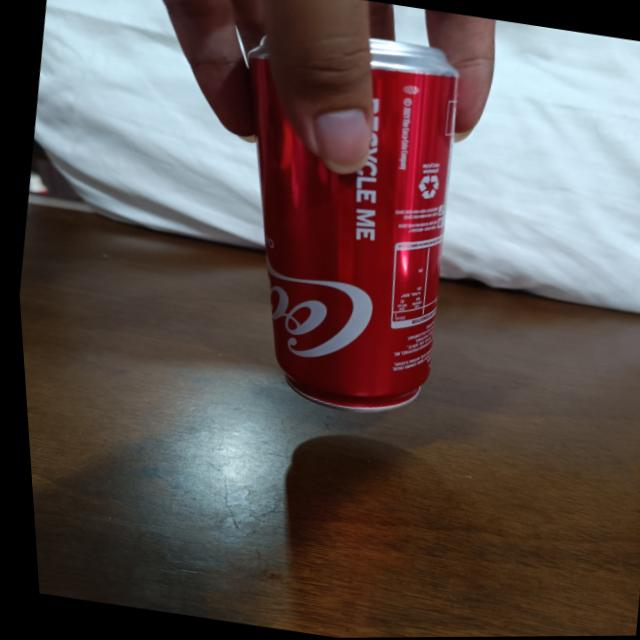coke: (194, 16, 484, 428)
